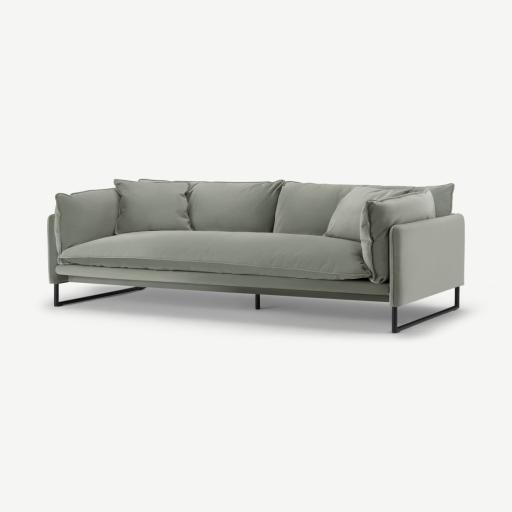back_cushion: (115, 180, 355, 236), (409, 184, 452, 214)
left_arm: (389, 214, 464, 306)
legs: (390, 287, 459, 333), (53, 283, 160, 306), (312, 292, 386, 302), (263, 289, 311, 297), (162, 282, 195, 289), (199, 285, 228, 292), (100, 279, 122, 284), (255, 294, 260, 310), (248, 288, 254, 296), (70, 276, 89, 278)
one-seater: (48, 179, 464, 332)
right_arm: (53, 189, 119, 262)
seat_cushion: (61, 231, 369, 281)
